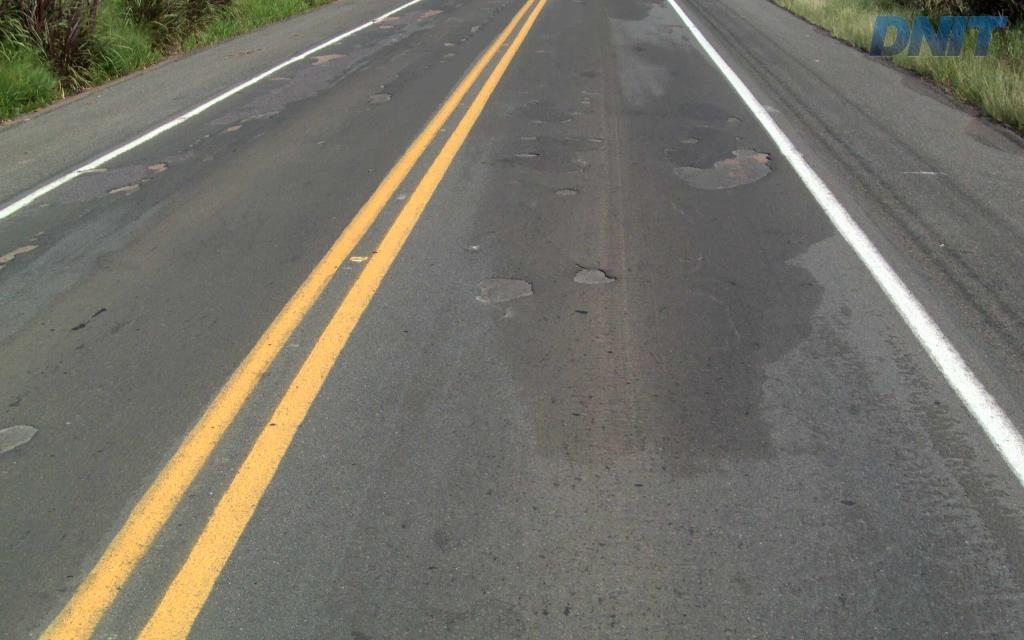pothole: (665, 143, 775, 193), (457, 266, 543, 308), (564, 258, 622, 290), (548, 183, 589, 201), (509, 149, 546, 160), (671, 135, 704, 147), (582, 134, 611, 147), (724, 112, 746, 125), (732, 134, 749, 142)
